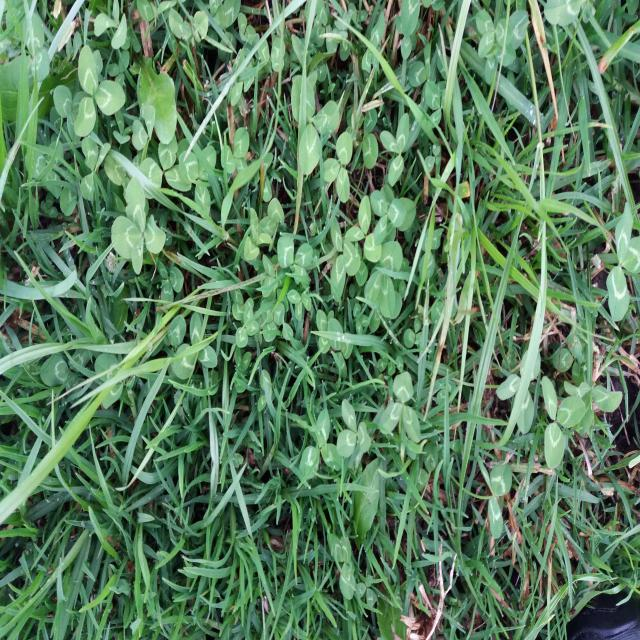Four Leaf Clover: (111, 176, 166, 274)
